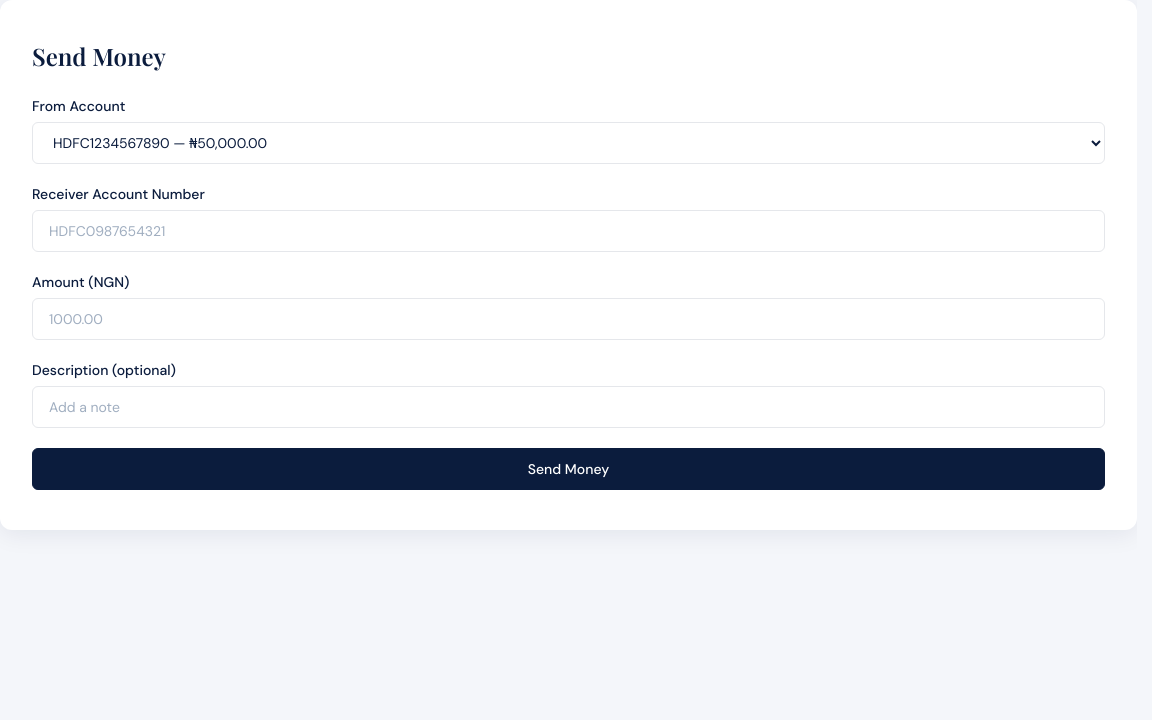
TransferForm › should show validation error when receiver account is empty
Click the button "Send Money": (568, 469) [32,448,1105,490]
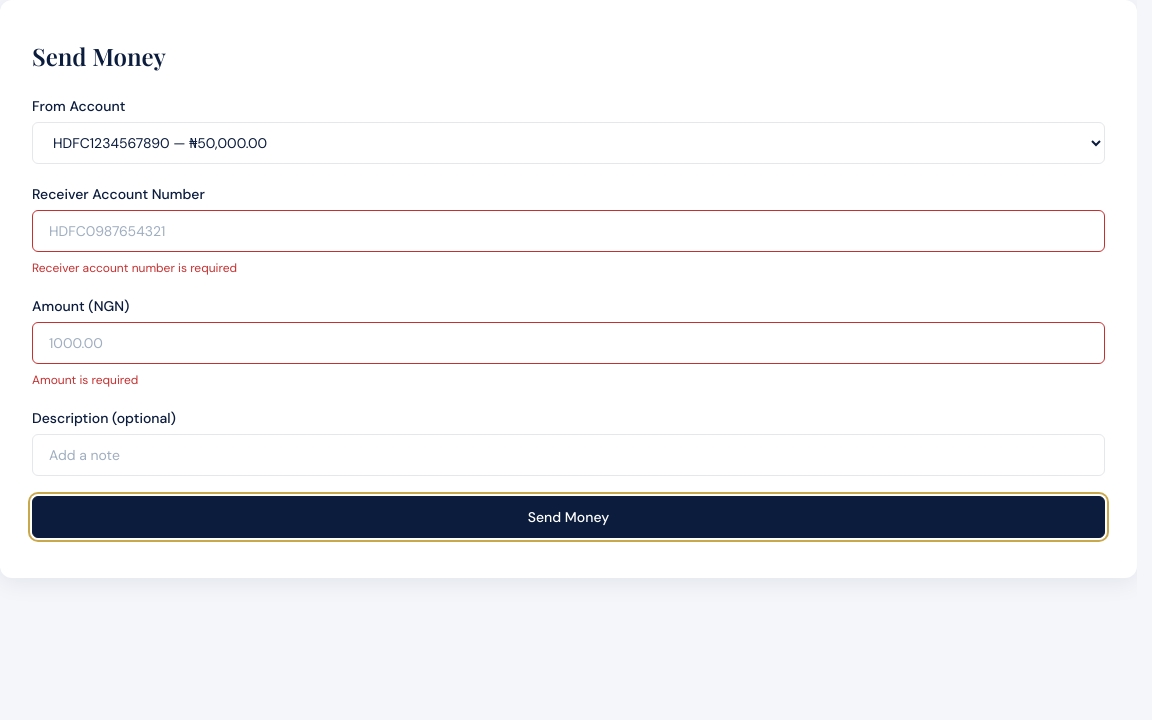
Expected: the text "Receiver account number is required" is shown, [32,260,237,276]
